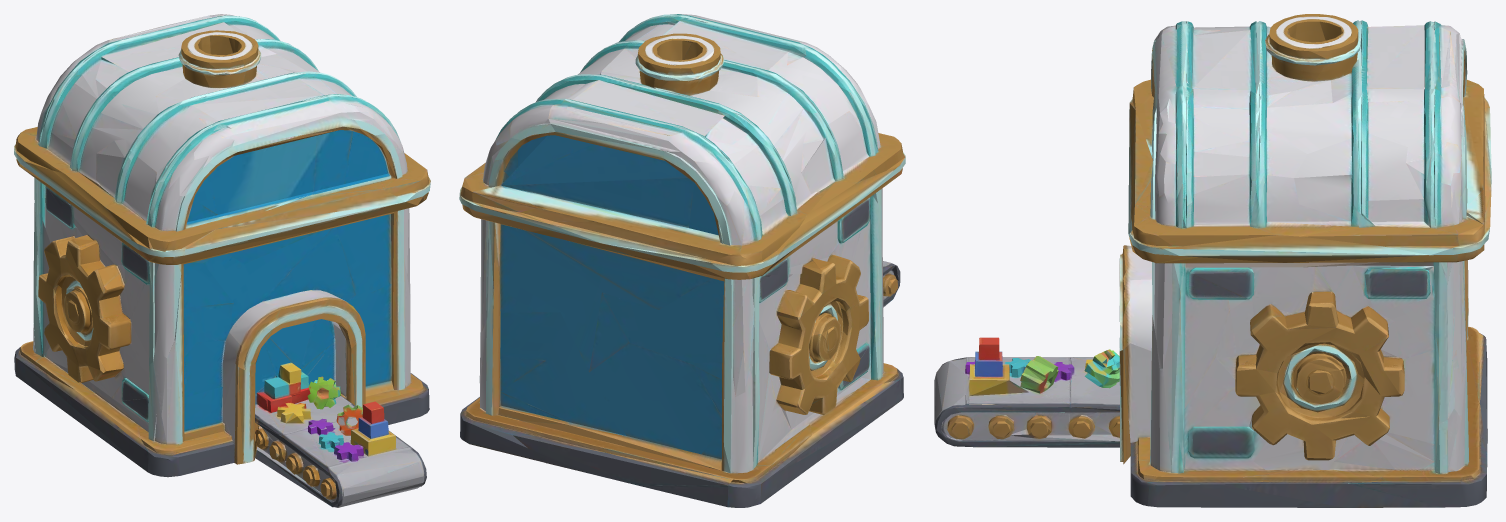
The model's file is factory.glb.
3 views of the same model, side by side, from view 1: azimuth 30°, elevation 25°; view 2: azimuth 150°, elevation 25°; view 3: azimuth 270°, elevation 25° (orthographic). The views are drawn at different scales.
Visible parts, largest first — view 1: Mesh_0; view 2: Mesh_0; view 3: Mesh_0.
Part boxes in pixels (<box>): Mesh_0: <box>14,14,430,507</box>; Mesh_0: <box>459,14,905,507</box>; Mesh_0: <box>934,14,1491,507</box>.
Size of the model in its own units: 1.32 by 1.49 by 1.9.
1 material, 1 textured.
